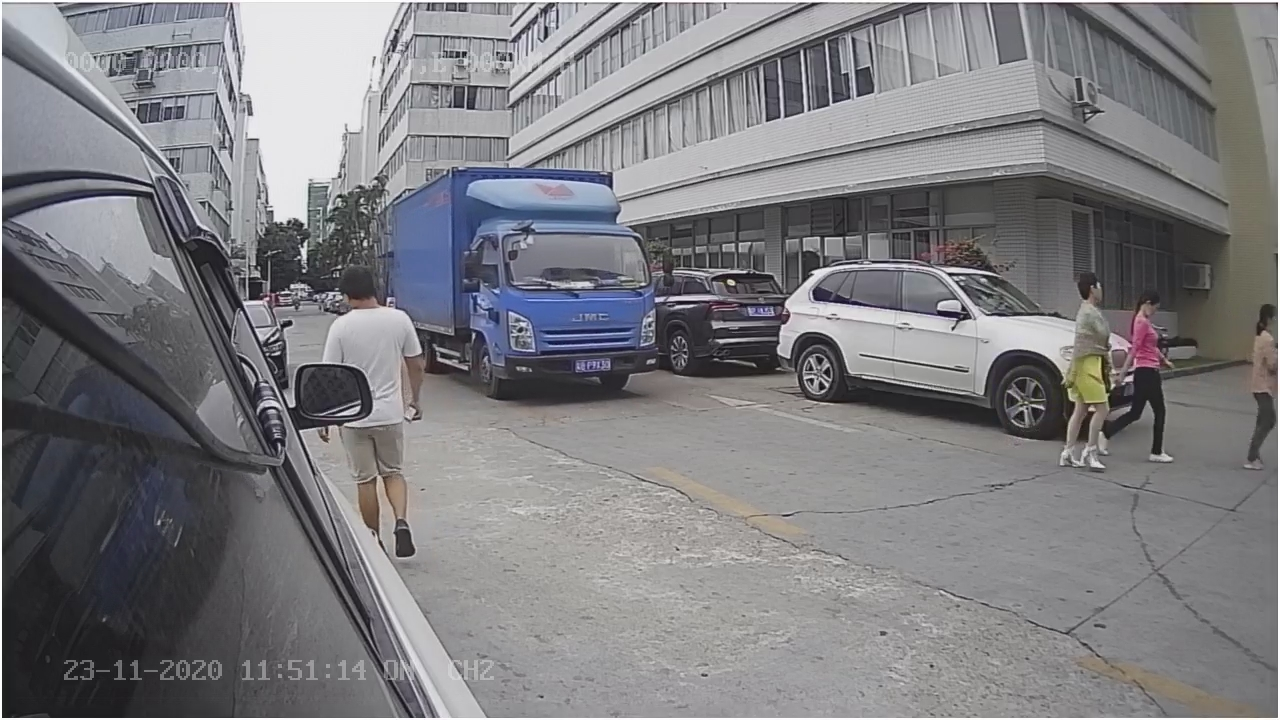person: (1053, 266, 1124, 473), (322, 258, 425, 364)
